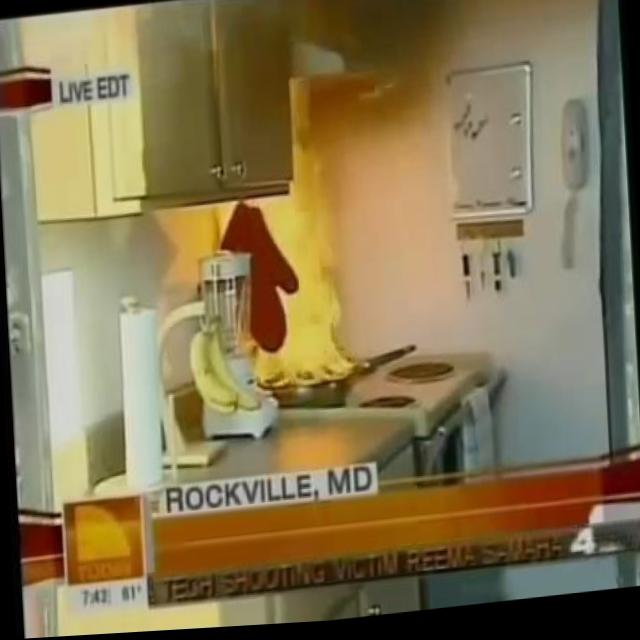fire: (215, 150, 375, 402)
